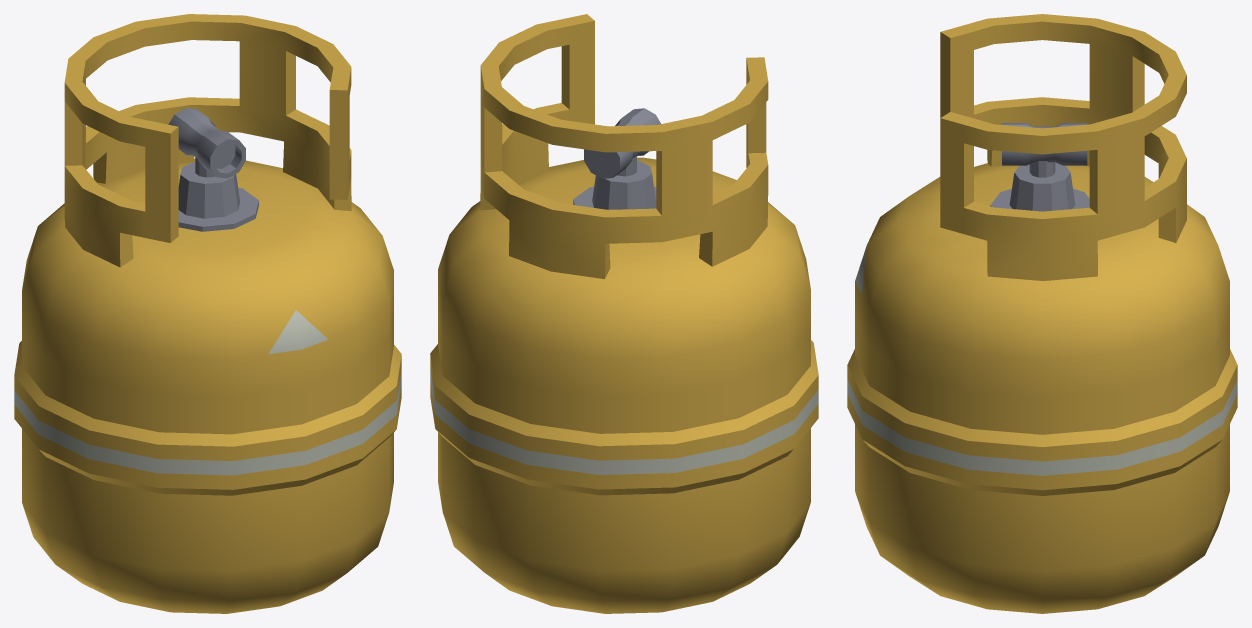
The model's file is gas_tank.glb.
3 renders of one model, left to right at view 1: azimuth 30°, elevation 25°; view 2: azimuth 150°, elevation 25°; view 3: azimuth 270°, elevation 25°, orthographic.
Visible parts, largest first — view 1: GasTank; view 2: GasTank; view 3: GasTank.
Part boxes in pixels (<box>): GasTank: <box>14,14,401,613</box>; GasTank: <box>430,14,818,613</box>; GasTank: <box>847,14,1237,613</box>.
Size of the model in its own units: 1.01 by 1.39 by 1.01.
